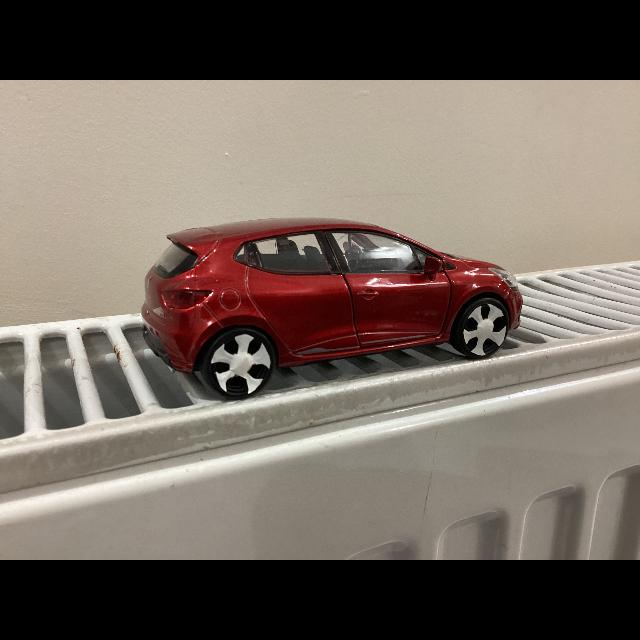Yanlis_Jant: (209, 334, 271, 396), (462, 304, 506, 354)
